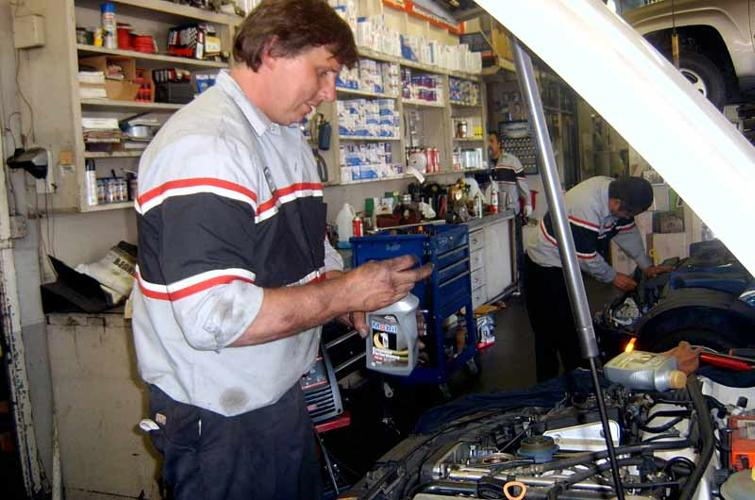person: (128, 1, 436, 500)
